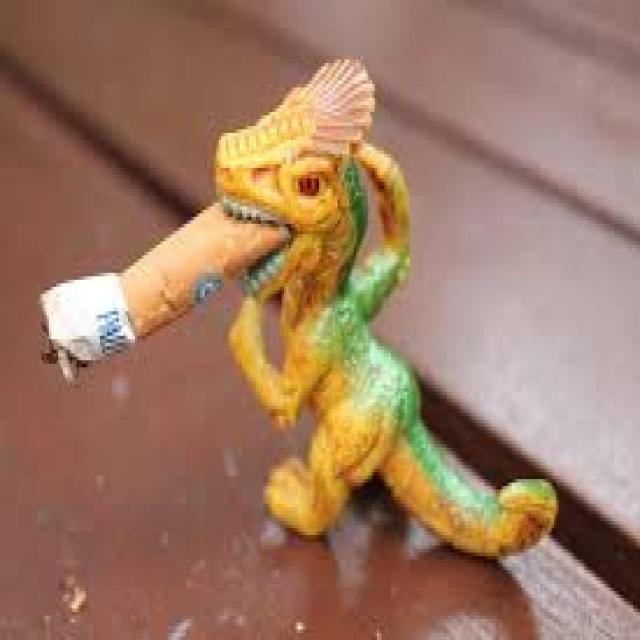hard-toy: (42, 61, 559, 556)
